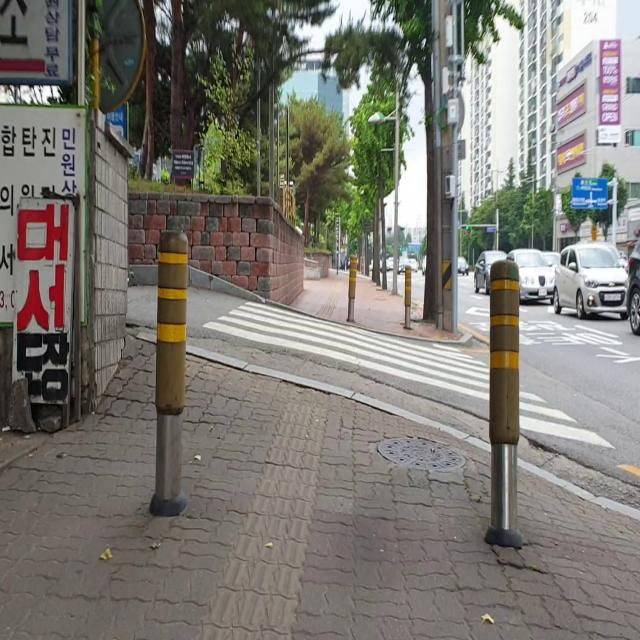횡단보도: (201, 298, 618, 452)
